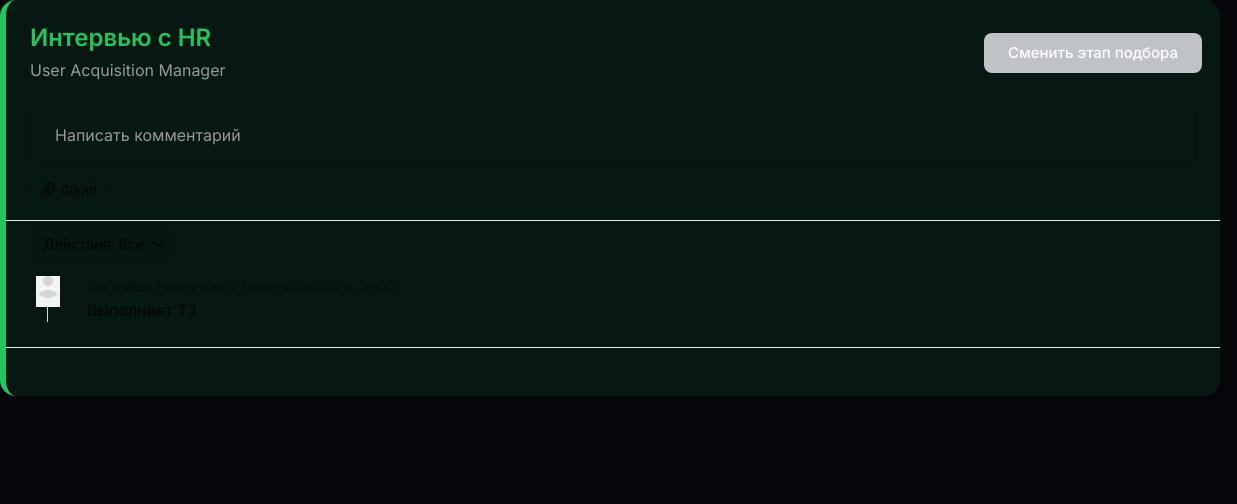
Test: Пикер этапа: помечен следующий этап › кандидат на последнем рабочем этапе — «Отказ» сам не подставляется
This screenshot has width=1237, height=504.
Step 1. Click the button "Сменить этап подбора" → (1093, 53), box [984,33,1202,73]
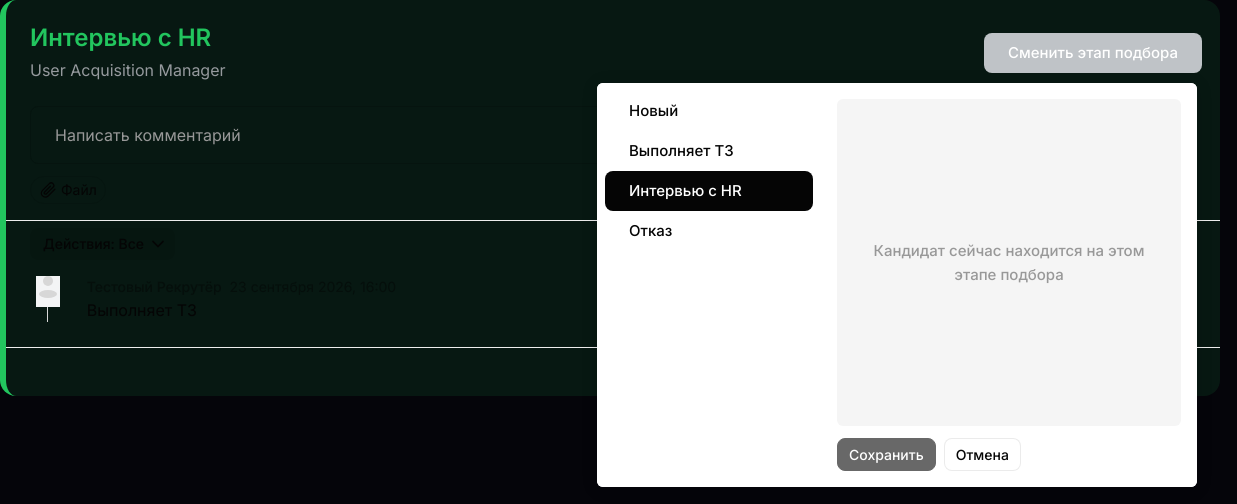
expect the text "Кандидат сейчас находится на этом этапе подбора" is shown: met, box [837,99,1181,426]
